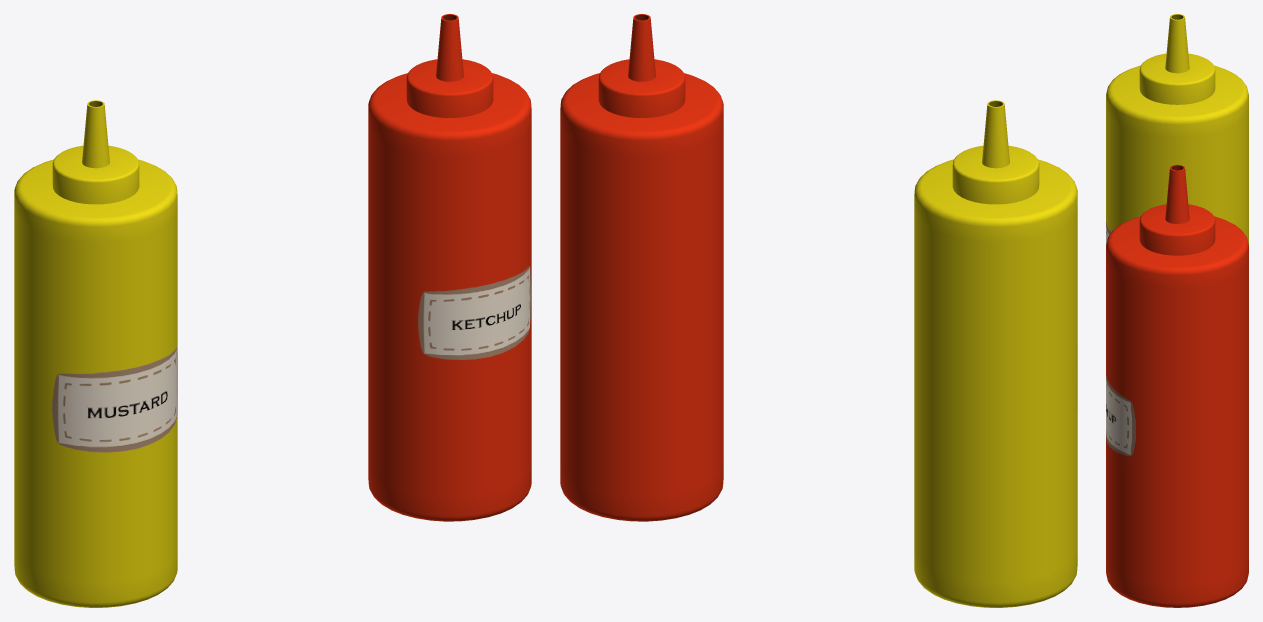
File: saus We are cooked.fbx
3 renders of one model, left to right at view 1: azimuth 30°, elevation 25°; view 2: azimuth 150°, elevation 25°; view 3: azimuth 270°, elevation 25°, orthographic. The views are drawn at different scales.
Visible parts, largest first — view 1: basis fles.001, basis fles, dop fles, dop fles.001; view 2: basis fles.001, basis fles, dop fles, dop fles.001; view 3: basis fles.001, basis fles, dop fles.001, dop fles.
Part boxes in pixels (x1,y1,x2,y2): basis fles.001: (368,73,531,521); basis fles: (14,159,177,607); dop fles: (52,100,139,204); dop fles.001: (406,14,493,117); basis fles.001: (560,73,723,521); basis fles: (914,159,1077,607); dop fles: (952,100,1039,204); dop fles.001: (598,14,685,117); basis fles.001: (1106,216,1248,607); basis fles: (1106,65,1248,244); dop fles.001: (1139,164,1215,255); dop fles: (1139,14,1215,104).
Bounding box in the file's own units: 14 × 12.76 × 4.
